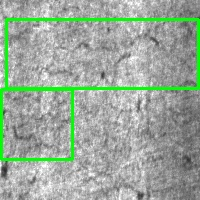crazing: (7, 19, 198, 88), (1, 89, 72, 159)
